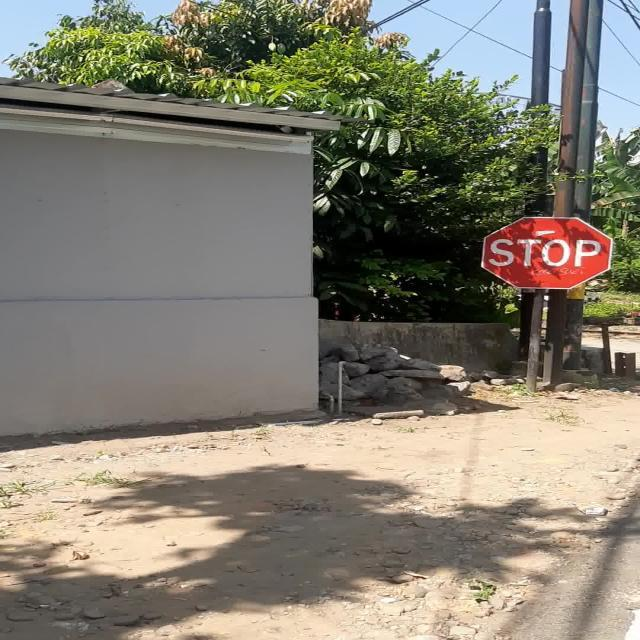Berhenti: (481, 217, 614, 290)
